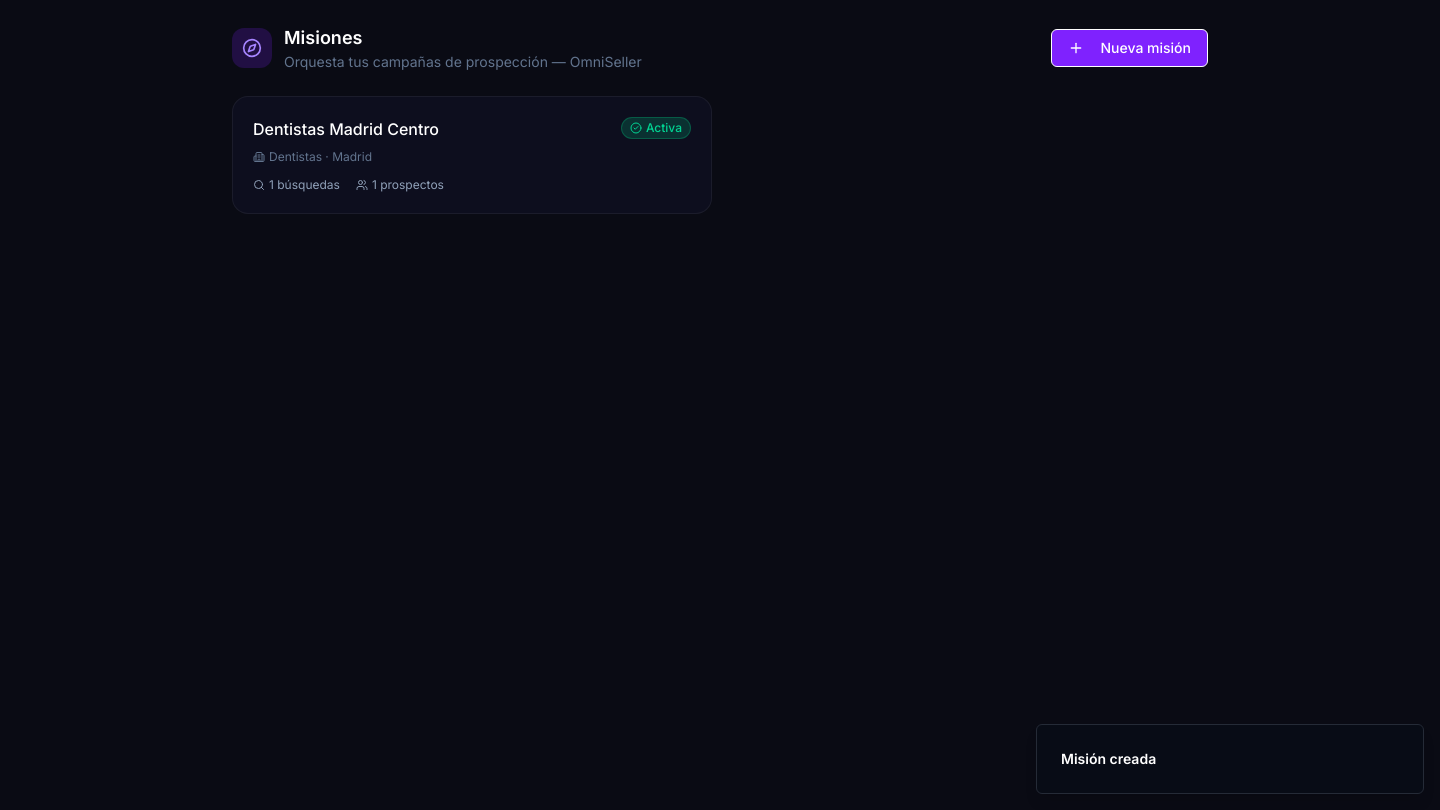
it: Missions — listado, creación, detalle, ModuleGuard › 4. detalle de misión muestra resumen y búsquedas
This screenshot has width=1440, height=810.
Step 1. Click the text "Dentistas Madrid Centro" → [346, 129], box [253,117,439,141]
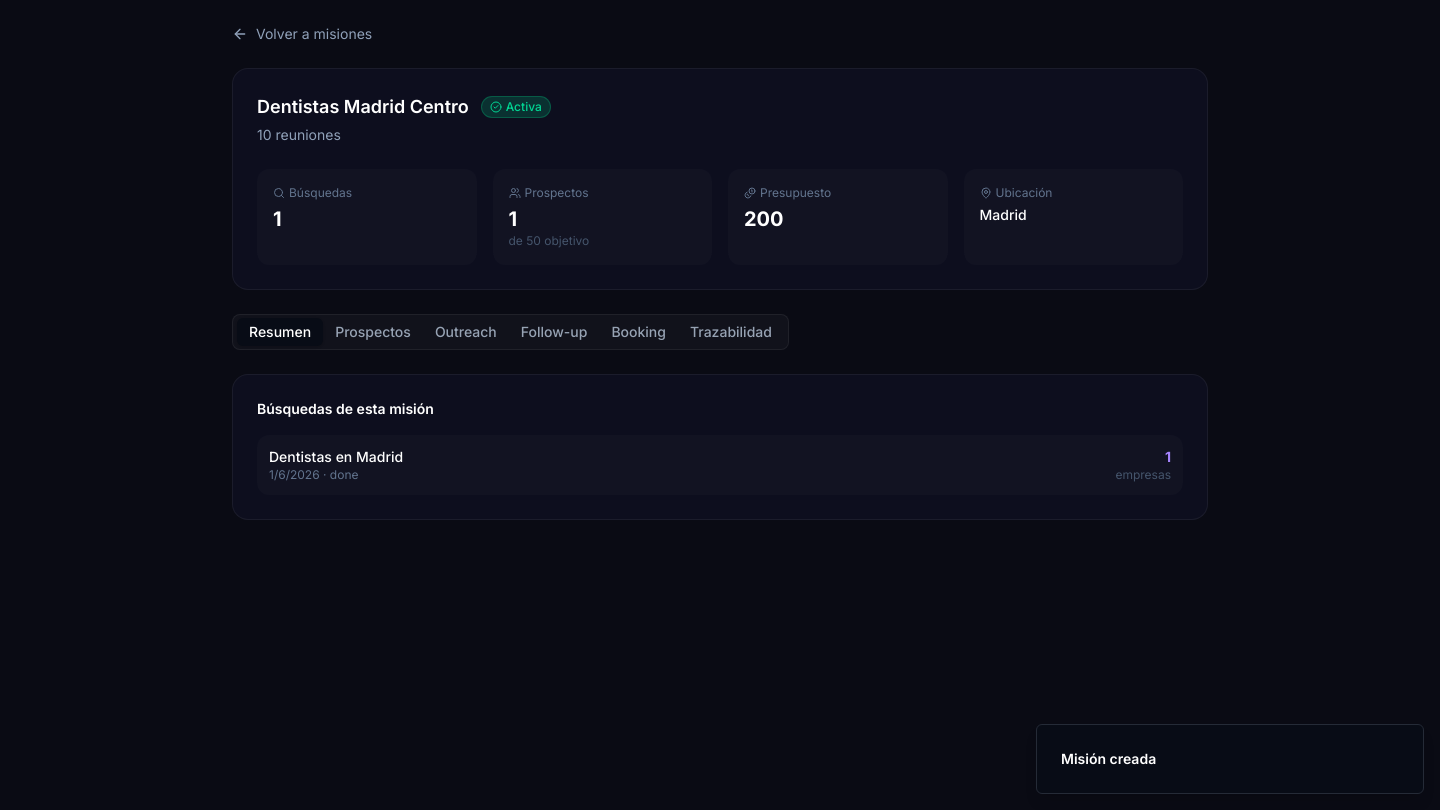
Check: the heading "Búsquedas de esta misión" is shown, box [257,400,434,417]
Check: the text "Dentistas en Madrid" is shown, box [269,447,403,467]
Check: the tab with test id "tab-prospectos" is shown, box [323,318,423,346]
